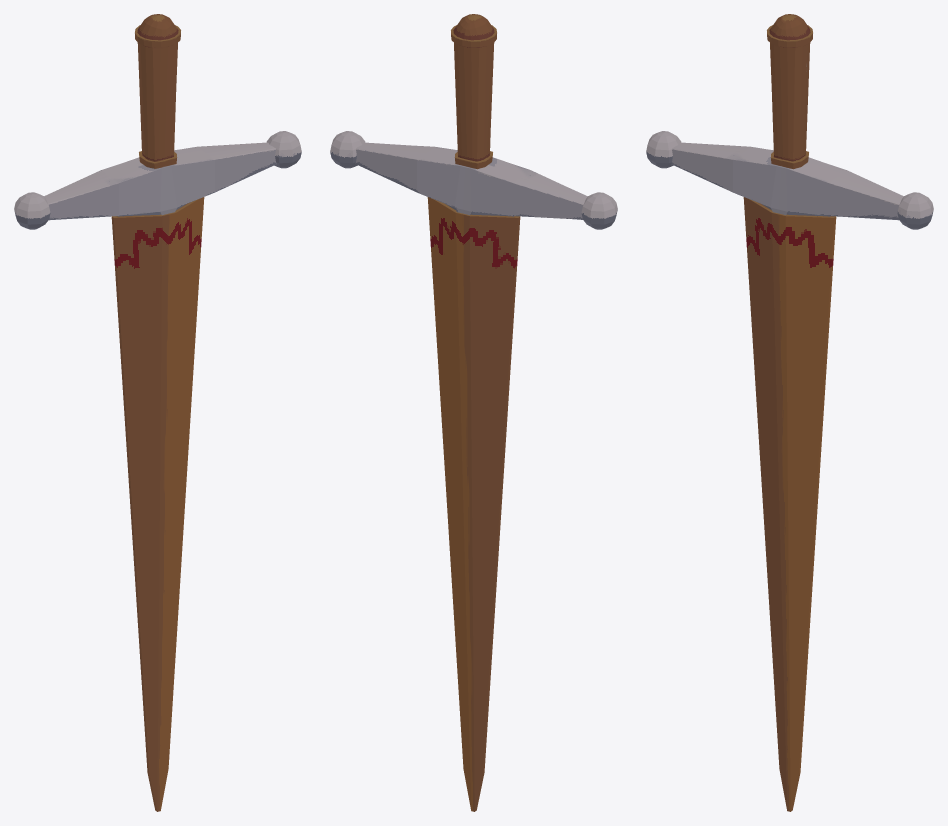
The model's file is armandoSword.glb.
3 views of the same model, side by side, from view 1: azimuth 30°, elevation 25°; view 2: azimuth 150°, elevation 25°; view 3: azimuth 330°, elevation 25° (orthographic).
Parts seen in each view (by area): view 1: Sheath, Sword; view 2: Sheath, Sword; view 3: Sheath, Sword.
Part boxes in pixels (x1,y1,x2,y2): Sheath: [111, 197, 204, 811]; Sword: [14, 14, 301, 229]; Sheath: [427, 197, 520, 811]; Sword: [330, 14, 617, 229]; Sheath: [743, 197, 836, 811]; Sword: [646, 14, 933, 229].
Bounding box in the file's own units: 0.5291 × 1.42 × 0.0755.
2 materials, 2 textured.
